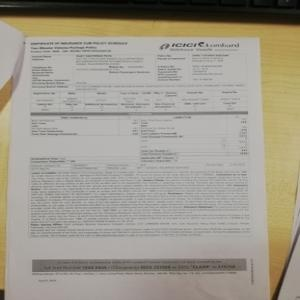image: (156, 37, 247, 52)
table: (30, 109, 249, 165), (33, 86, 248, 110)
text: (31, 169, 252, 237), (30, 40, 151, 81)
